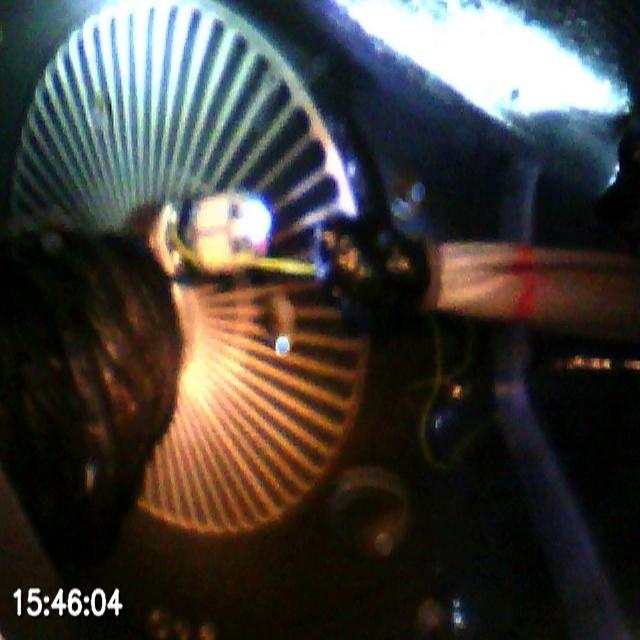head: (150, 191, 273, 275)
